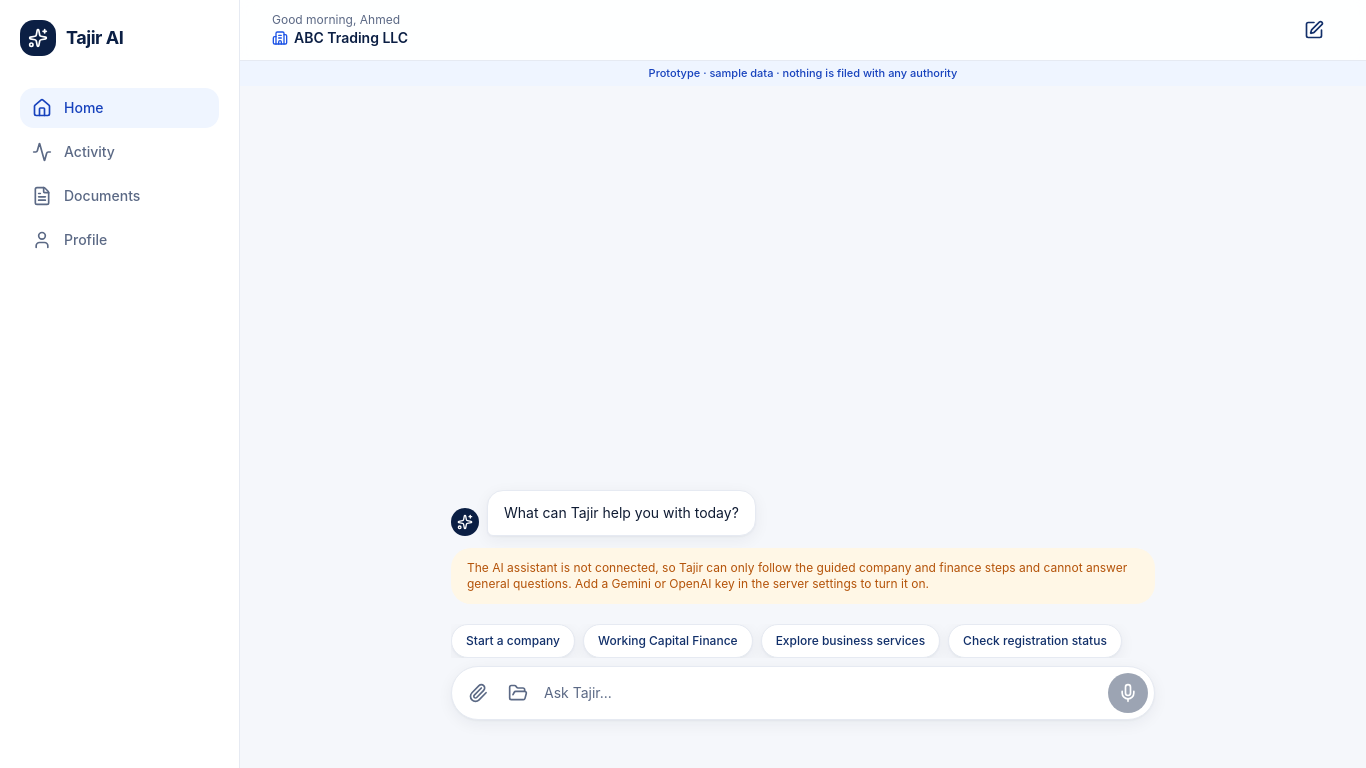
Test: chat › lets the user dismiss a failed message
In the field named "Message Tajir": (822, 693) [540,677,1104,709], type "hello"
Then press Enter
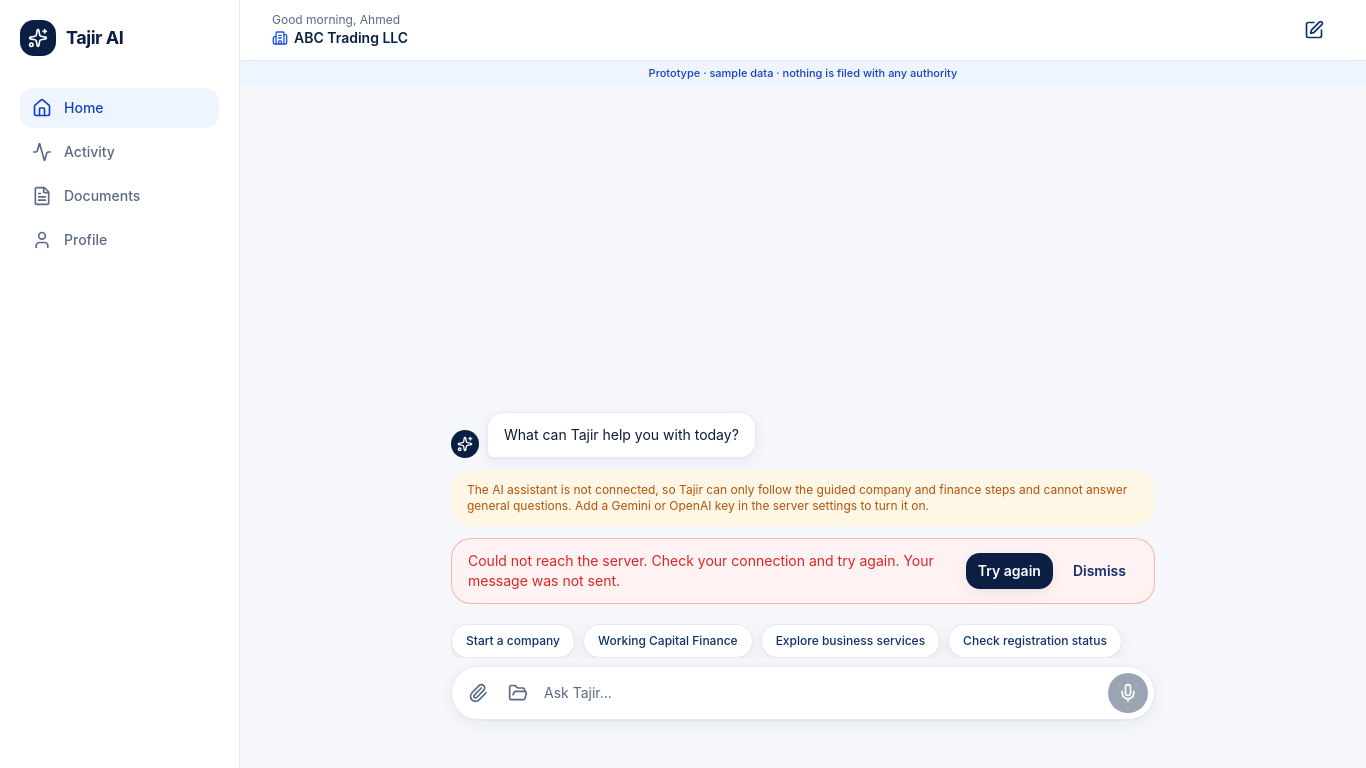
Click the button "Dismiss": (1099, 571) [1061,553,1138,589]
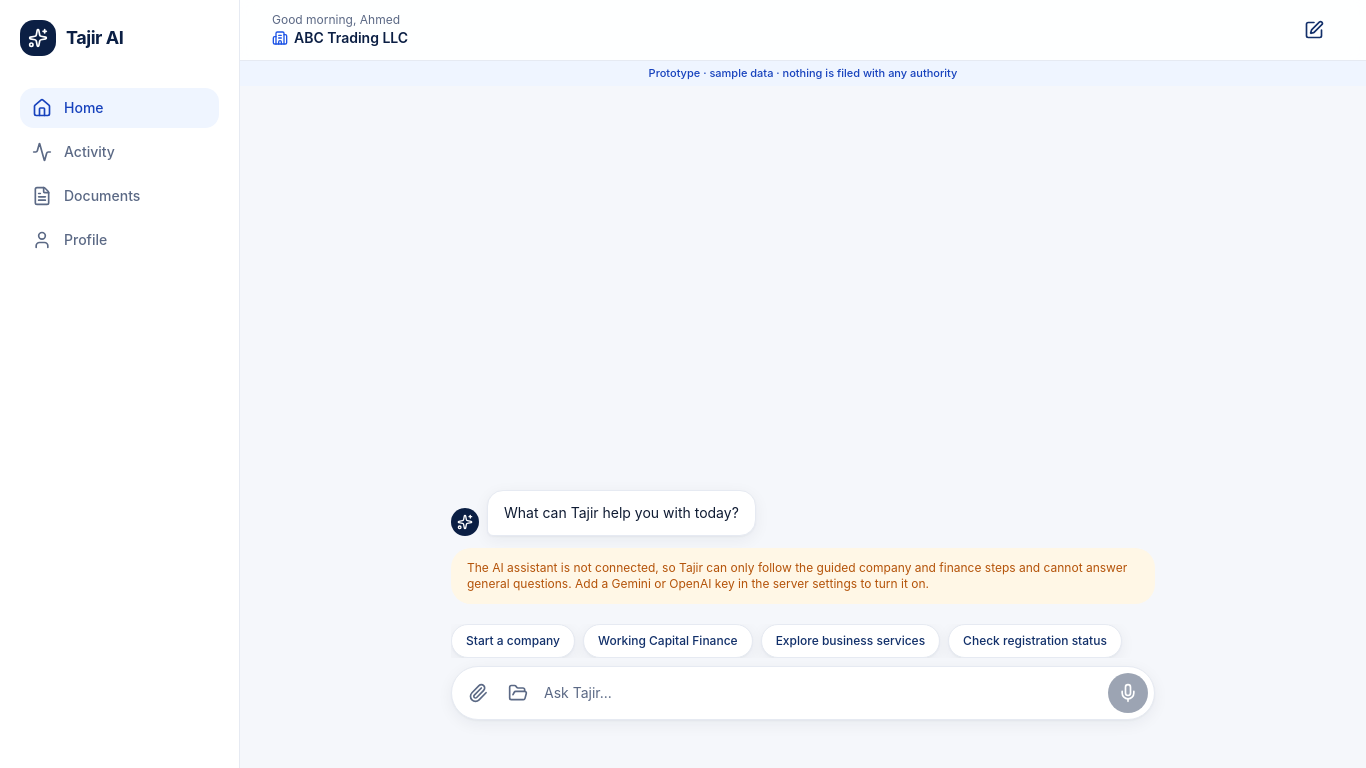
expect the message is gone: met
